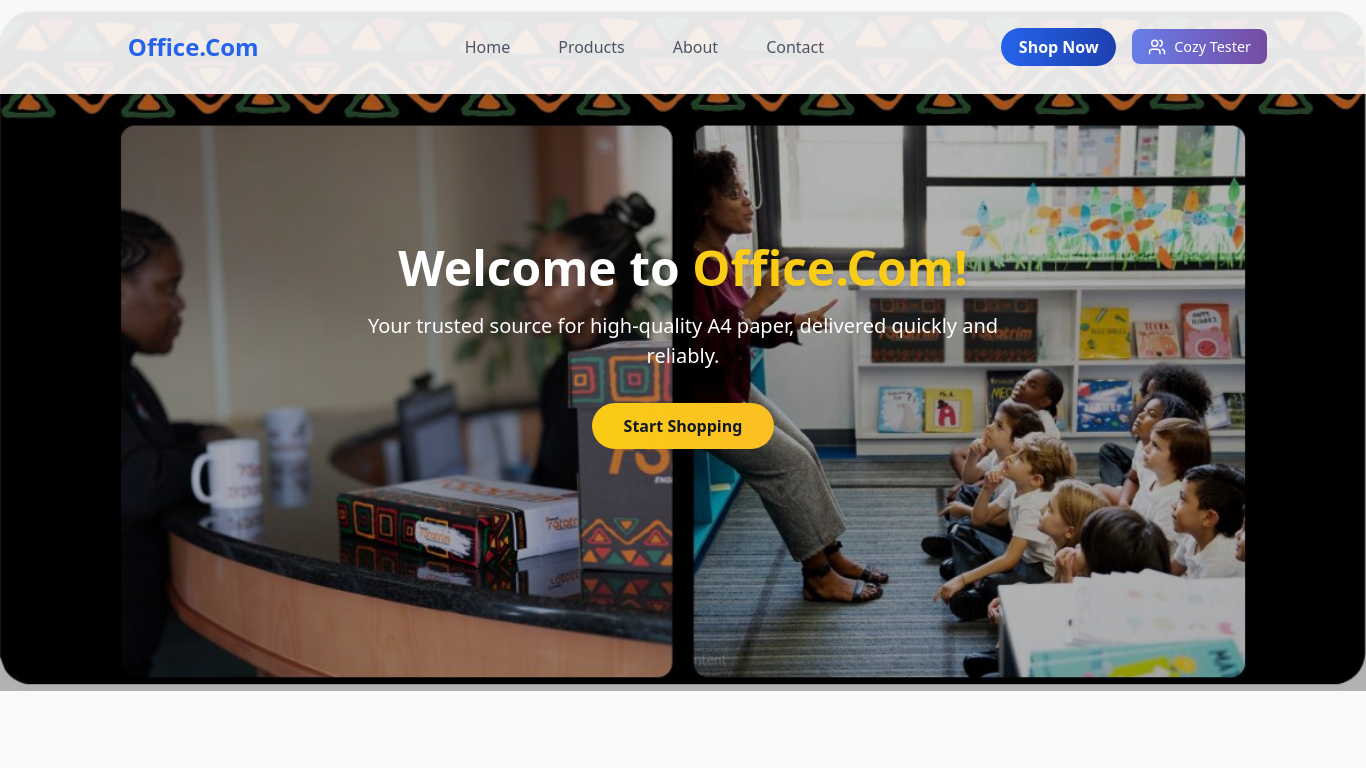
Test case: 🏠 Office.Com Homepage & Modal Tests › Shows user dropdown when user is logged in
This screenshot has width=1366, height=768.
Click the button with class "user-btn". click: (1200, 47)
box: [1132, 29, 1267, 64]
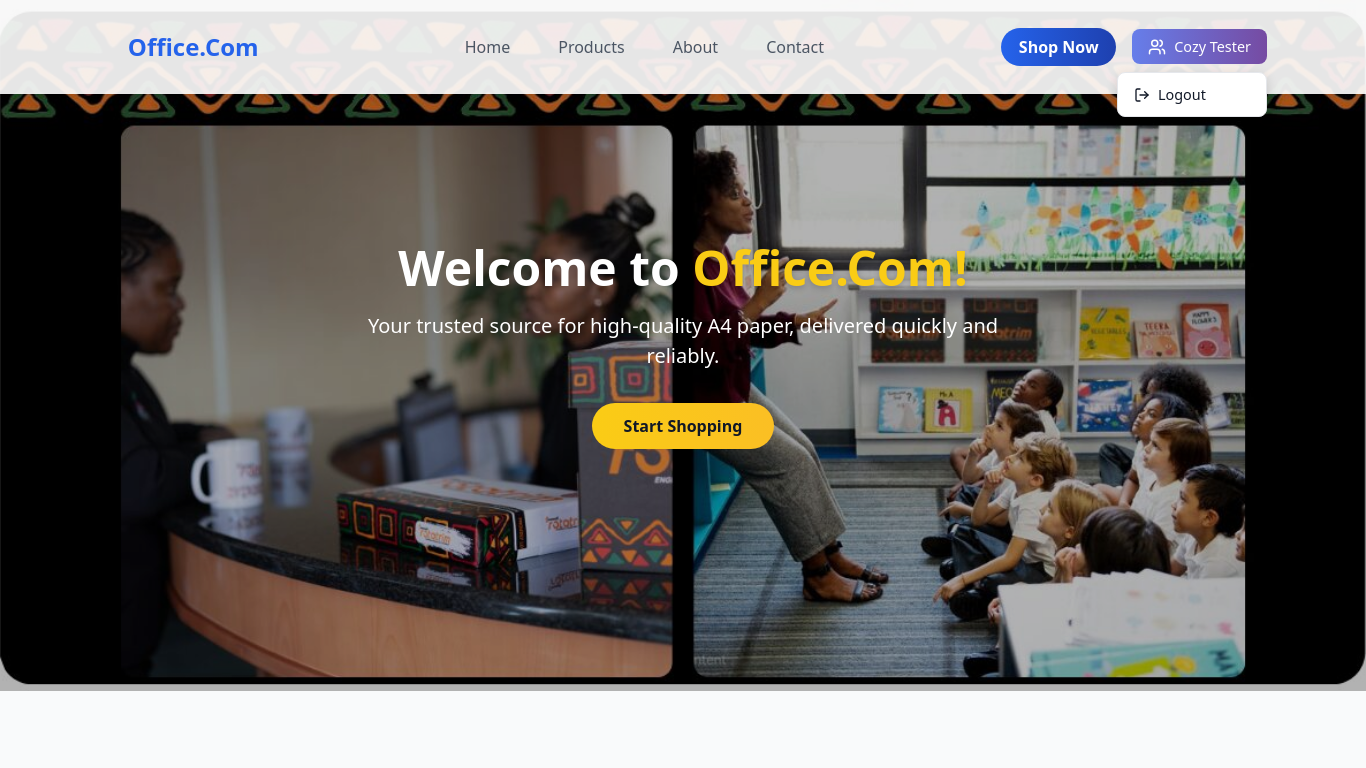
Now the button with class "logout-btn" is shown, box [1118, 73, 1266, 116]
